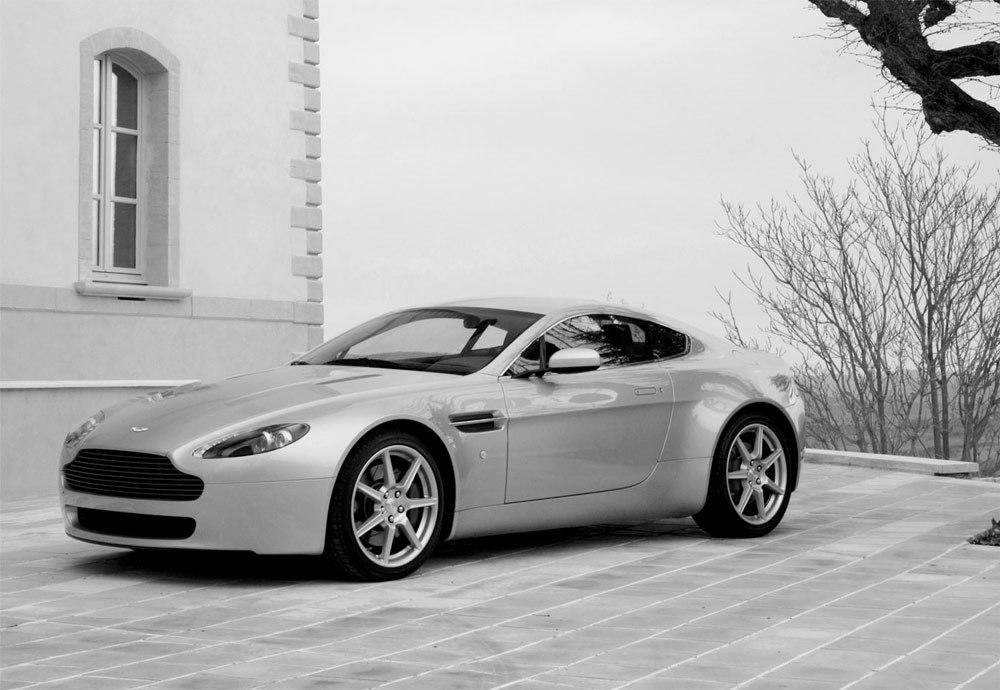car: (58, 293, 803, 581)
